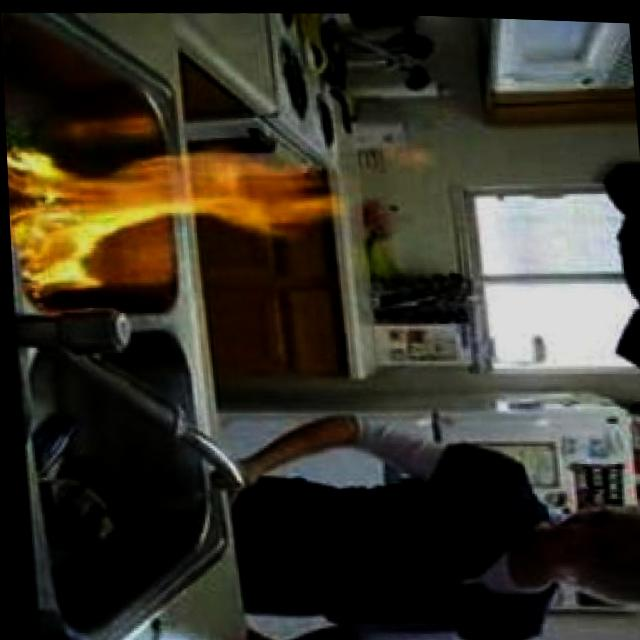helmet: (5, 133, 340, 292)
